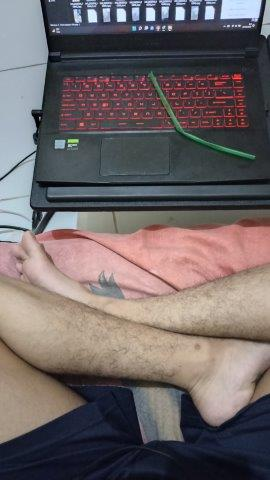sedotan: (150, 74, 255, 159)
